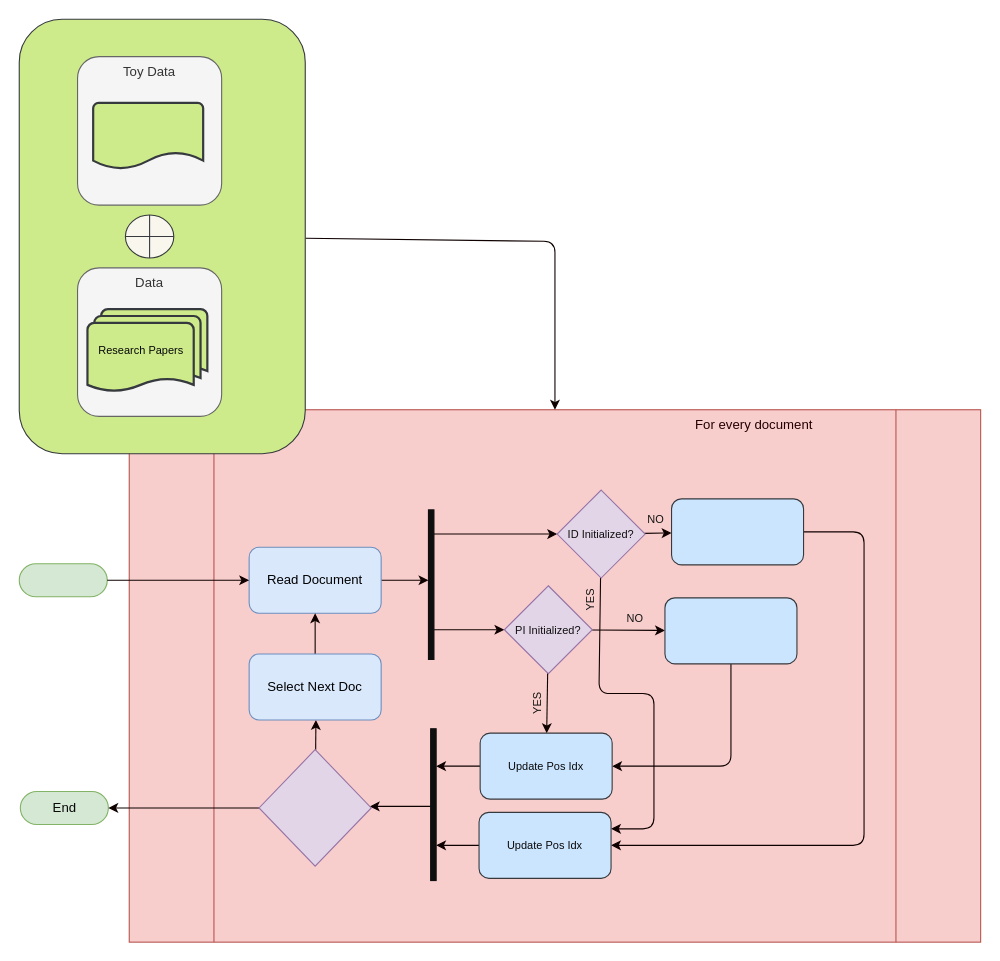
Image size: 1000x961. Some labels were removed from this diagram. The shapes that lost their labels are listed below. From the top down, each one's centre as x and y in pixels, then its label:
(148,135): Sample
(737,531): Initialize Inv Idx
(62,580): Start
(730,630): Initialize Pos Idx
(314,807): End of Documents?
